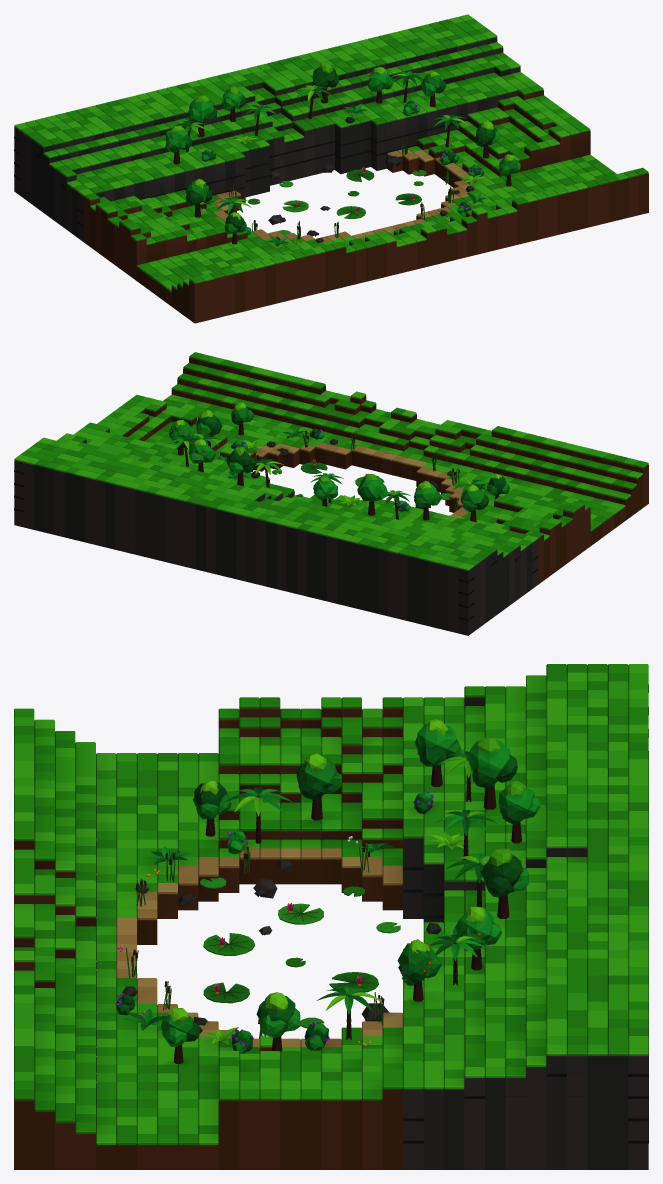
The model's file is pond.glb.
The picture shows the model from 3 angles, top to bottom: view 1: azimuth 30°, elevation 25°; view 2: azimuth 150°, elevation 25°; view 3: azimuth 270°, elevation 25°; orthographic projection. The views are drawn at different scales.
Parts seen in each view (by area): view 1: Pond, Sway_tree_0, Sway_tree_4, Sway_tree_2, Sway_tree_10, Sway_tree_3, Sway_tree_12, Sway_tree_5; view 2: Pond, Sway_tree_0, Sway_tree_2, Sway_tree_10, Sway_tree_4, Sway_tree_12, Sway_tree_3, Sway_tree_1; view 3: Pond, Sway_tree_0, Sway_tree_2, Sway_tree_4, Sway_tree_10, Sway_tree_12, Sway_tree_5, Sway_tree_3, Sway_tree_1, Sway_tree_11, Sway_tree_13, Pad_3 (+2 smaller).
Boxes of the visible parts, x1=… form: Pond: x1=14, y1=14, x2=648, y2=323; Sway_tree_0: x1=188, y1=95, x2=216, y2=124; Sway_tree_4: x1=165, y1=126, x2=192, y2=152; Sway_tree_2: x1=312, y1=62, x2=338, y2=89; Sway_tree_10: x1=185, y1=178, x2=212, y2=205; Sway_tree_3: x1=367, y1=67, x2=393, y2=91; Sway_tree_12: x1=475, y1=121, x2=500, y2=146; Sway_tree_5: x1=421, y1=71, x2=445, y2=96; Pond: x1=14, y1=352, x2=648, y2=635; Sway_tree_0: x1=357, y1=474, x2=387, y2=501; Sway_tree_2: x1=227, y1=447, x2=256, y2=473; Sway_tree_10: x1=460, y1=484, x2=488, y2=511; Sway_tree_4: x1=414, y1=480, x2=441, y2=507; Sway_tree_12: x1=195, y1=410, x2=222, y2=435; Sway_tree_3: x1=188, y1=439, x2=215, y2=463; Sway_tree_1: x1=313, y1=475, x2=337, y2=500; Pond: x1=14, y1=664, x2=648, y2=1169; Sway_tree_0: x1=469, y1=737, x2=517, y2=787; Sway_tree_2: x1=480, y1=848, x2=529, y2=897; Sway_tree_4: x1=414, y1=719, x2=460, y2=766; Sway_tree_10: x1=296, y1=753, x2=340, y2=800; Sway_tree_12: x1=256, y1=992, x2=300, y2=1038; Sway_tree_5: x1=397, y1=939, x2=441, y2=983; Sway_tree_3: x1=455, y1=906, x2=502, y2=950; Sway_tree_1: x1=498, y1=780, x2=540, y2=824; Sway_tree_11: x1=193, y1=781, x2=231, y2=819; Sway_tree_13: x1=161, y1=1008, x2=200, y2=1047; Pad_3: x1=203, y1=933, x2=254, y2=955.
Bounding box in the file's own units: 45.02 × 8.87 × 31.01.
